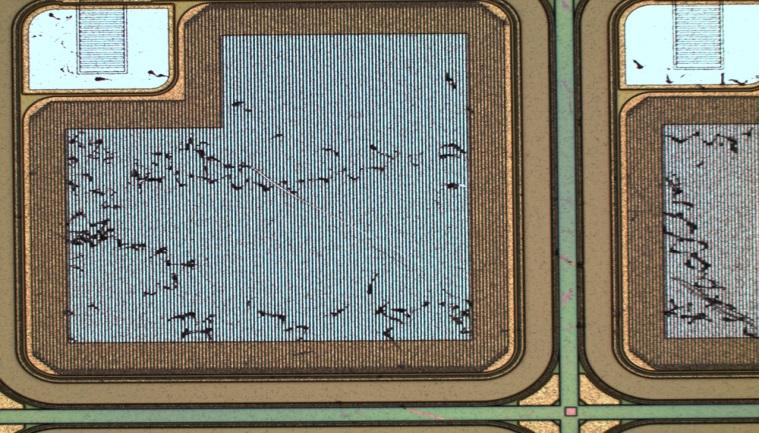SCRATCH: (22, 11, 759, 360)
